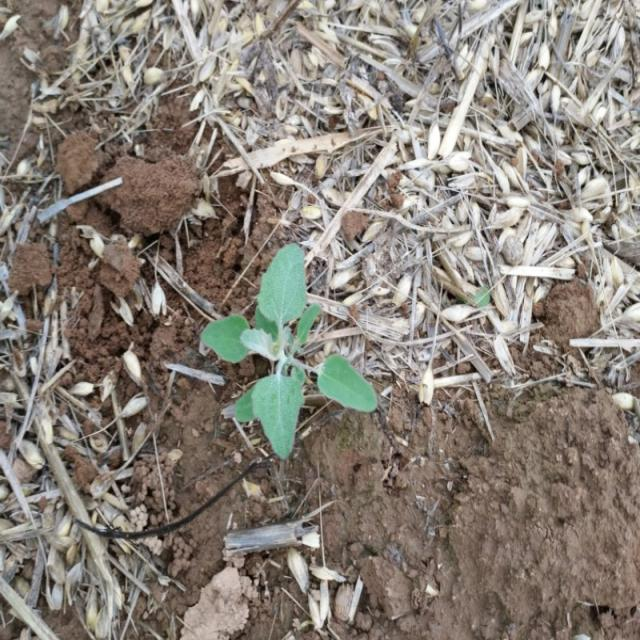goosefoots: (198, 236, 394, 470)
